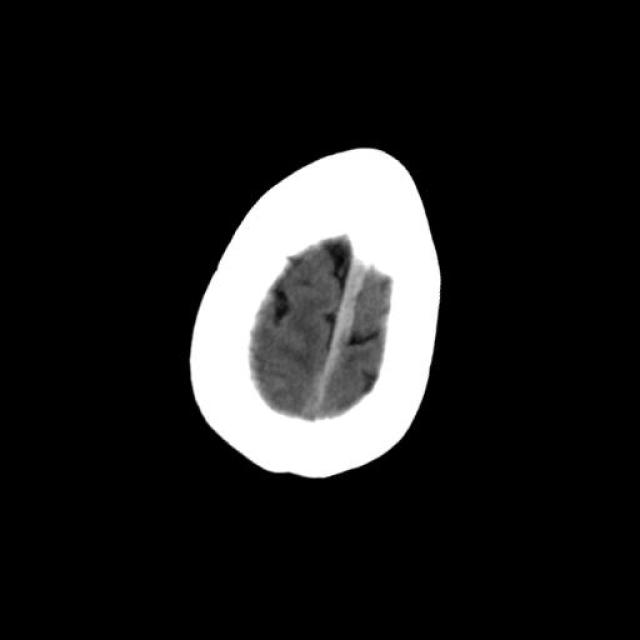Subdural: (284, 232, 398, 434)
